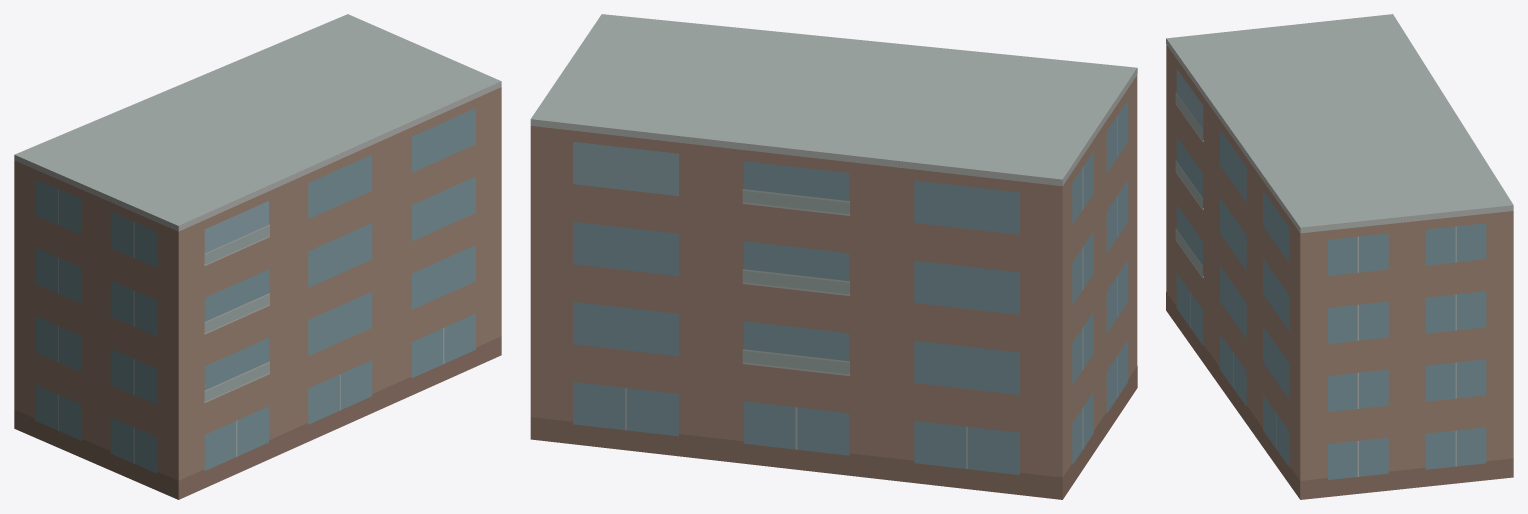
Rendered from survey-upis-32651306.glb.
3 views of the same model, side by side, from view 1: azimuth 30°, elevation 25°; view 2: azimuth 150°, elevation 25°; view 3: azimuth 270°, elevation 25° (orthographic). The views are drawn at different scales.
Parts seen in each view (by area): view 1: survey-upis-32651306.tmp; view 2: survey-upis-32651306.tmp; view 3: survey-upis-32651306.tmp.
Part boxes in pixels (x1=…): survey-upis-32651306.tmp: x1=14, y1=14, x2=501, y2=499; survey-upis-32651306.tmp: x1=530, y1=14, x2=1137, y2=499; survey-upis-32651306.tmp: x1=1166, y1=14, x2=1513, y2=499.
Size of the model in its own units: 19.71 by 11.7 by 13.55.
